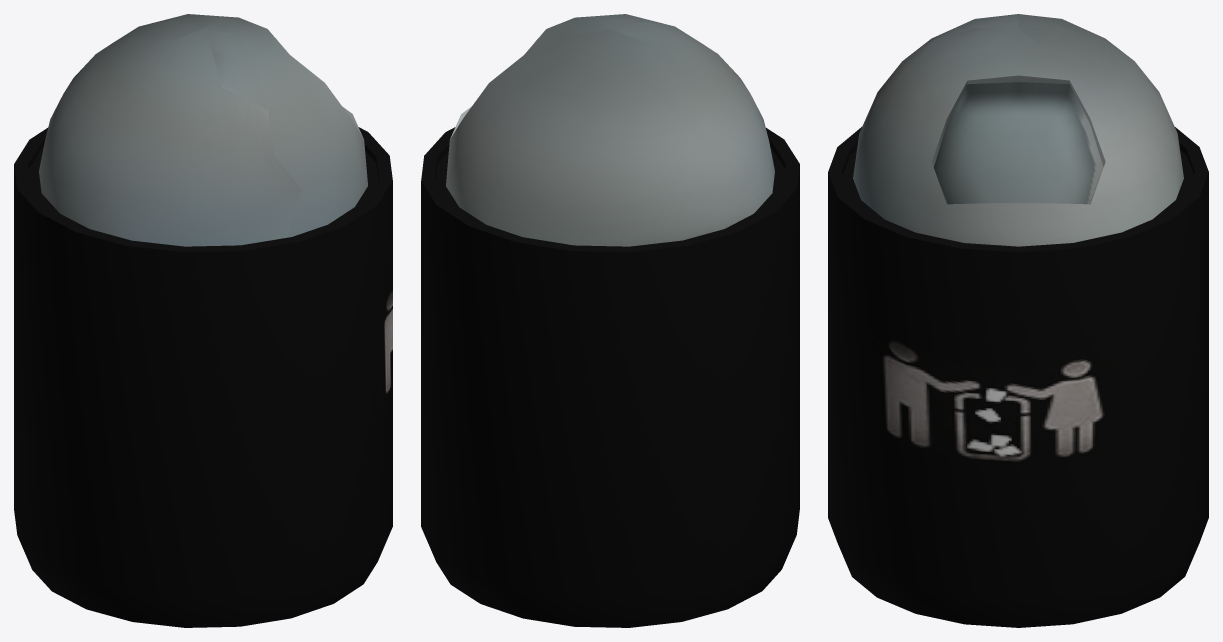
File: Trashcan.FBX
3 renders of one model, left to right at view 1: azimuth 30°, elevation 25°; view 2: azimuth 150°, elevation 25°; view 3: azimuth 270°, elevation 25°, orthographic.
Visible parts, largest first — view 1: Trashcan; view 2: Trashcan; view 3: Trashcan.
Part boxes in pixels (box(x1,y1,x2,y2)): Trashcan: box(14, 14, 392, 627); Trashcan: box(421, 14, 799, 627); Trashcan: box(828, 14, 1208, 627).
Size of the model in its own units: 0.5622 by 0.856 by 0.5622.
